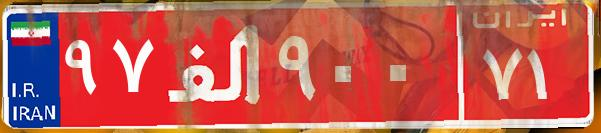0: (385, 28, 445, 110), (330, 28, 385, 110)
1: (525, 38, 570, 115)
7: (475, 38, 525, 113), (110, 28, 158, 105)
9: (273, 28, 330, 110), (57, 26, 110, 107)
الف: (158, 15, 273, 115)
